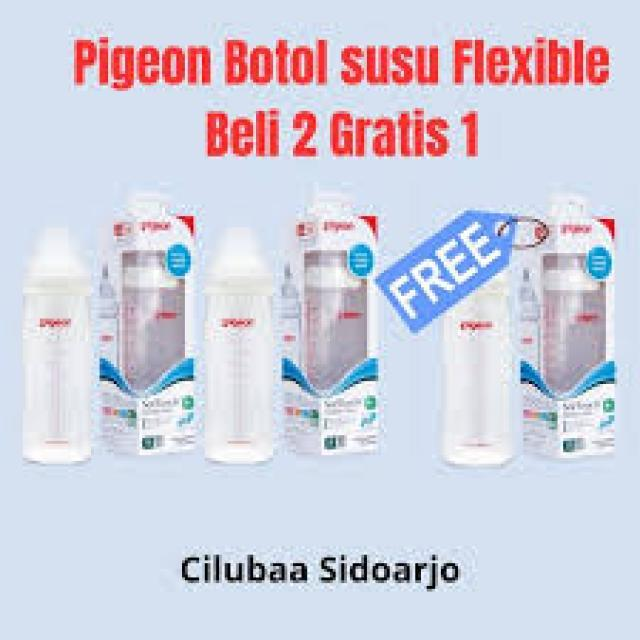good: (394, 227, 546, 492), (174, 217, 301, 472), (10, 219, 124, 487)
